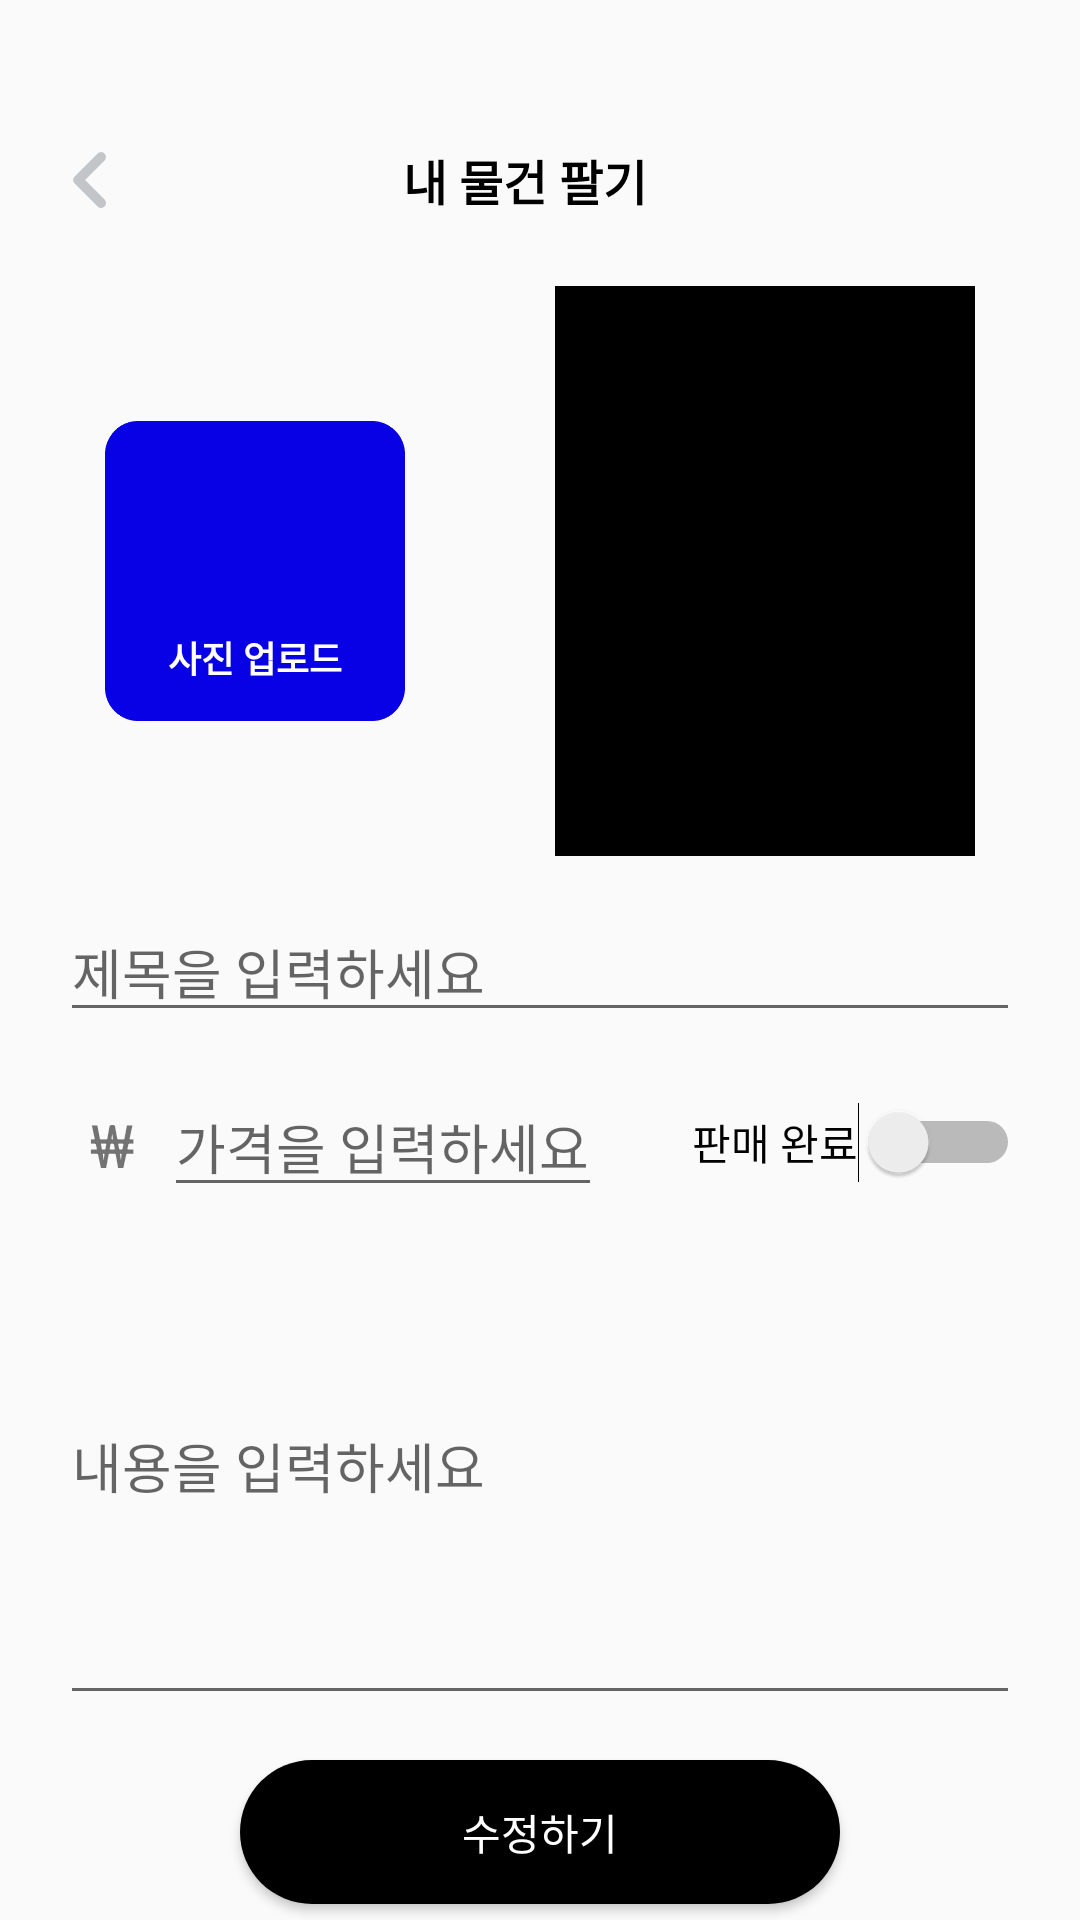

Point at icon controls on the screen. Image size 1080×1920, points as (x,y).
before: (89,180)
